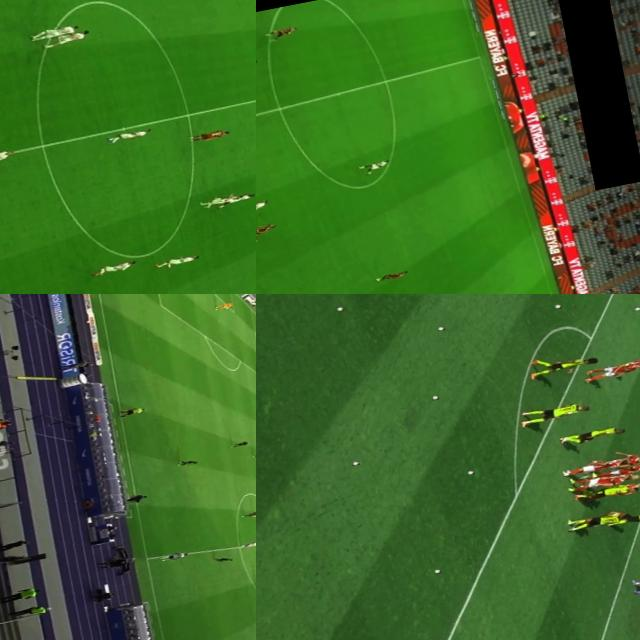ball: (433, 324, 446, 332), (430, 393, 443, 400), (351, 457, 362, 465), (334, 302, 344, 310), (631, 302, 640, 310), (552, 302, 563, 308), (466, 469, 476, 474), (434, 568, 444, 572)
player: (527, 349, 598, 376), (522, 396, 590, 424), (556, 420, 628, 446), (562, 508, 628, 532), (574, 478, 636, 502), (562, 454, 624, 476), (572, 468, 629, 490), (588, 359, 640, 381), (86, 258, 142, 278), (594, 448, 640, 471), (106, 125, 158, 145), (209, 188, 256, 209), (43, 30, 96, 48), (153, 251, 200, 270), (259, 22, 302, 42), (32, 24, 82, 41), (595, 461, 640, 478), (190, 126, 232, 144), (256, 218, 284, 242), (372, 268, 414, 283), (203, 191, 240, 208), (612, 350, 640, 372), (358, 157, 396, 172), (612, 508, 640, 527), (256, 196, 274, 218), (158, 550, 189, 562), (215, 298, 240, 312), (0, 146, 15, 167), (176, 456, 198, 467), (212, 554, 234, 564), (236, 539, 256, 548), (228, 439, 249, 447), (240, 510, 256, 518), (249, 449, 256, 458), (250, 508, 256, 516)
